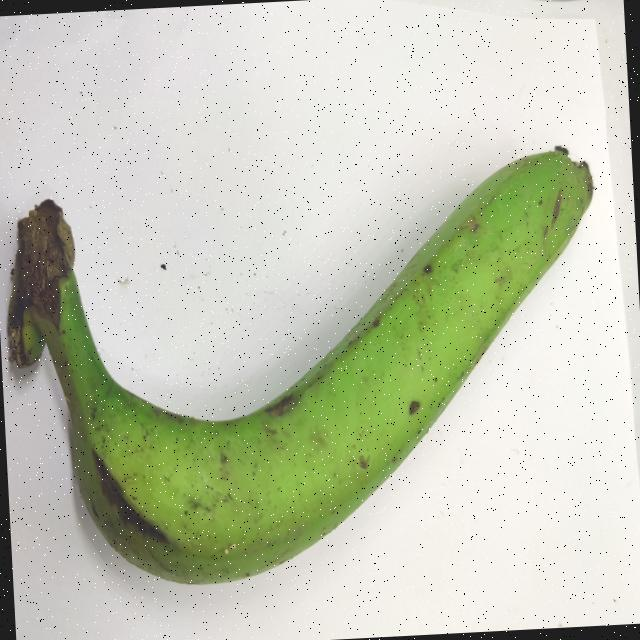Raw: (0, 67, 625, 618)
